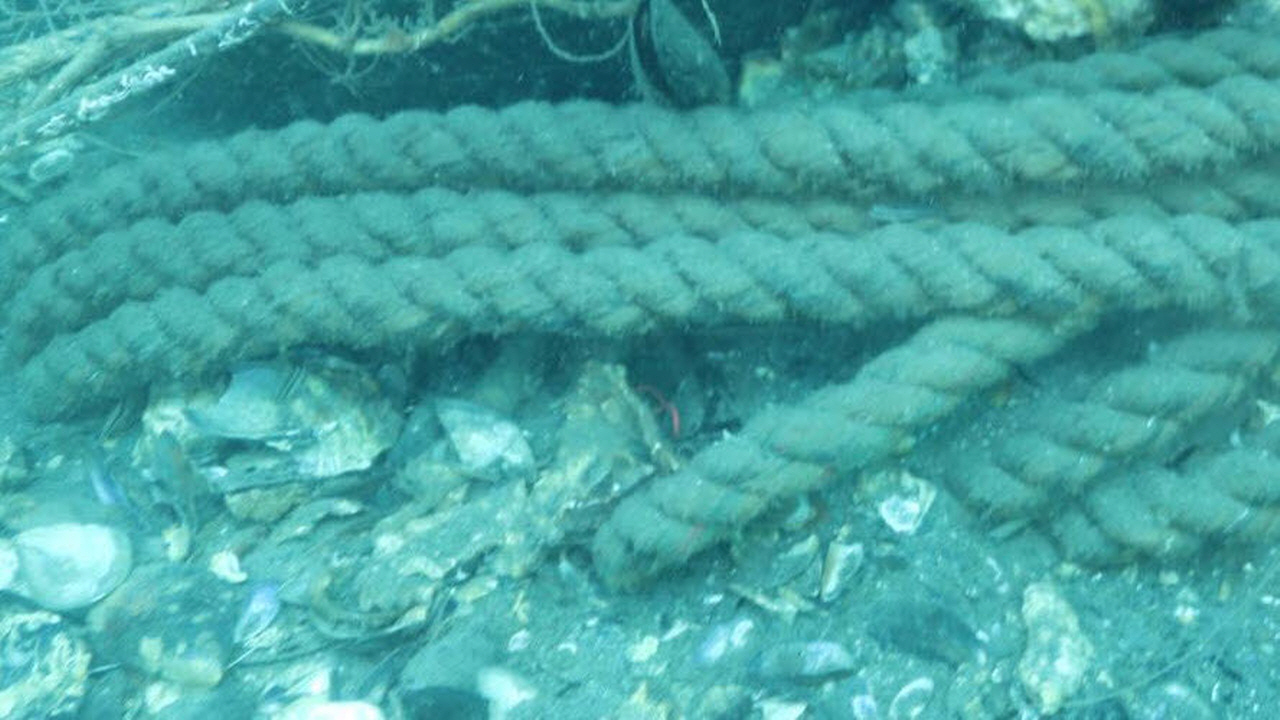bundle of ropes: (0, 23, 1278, 572)
